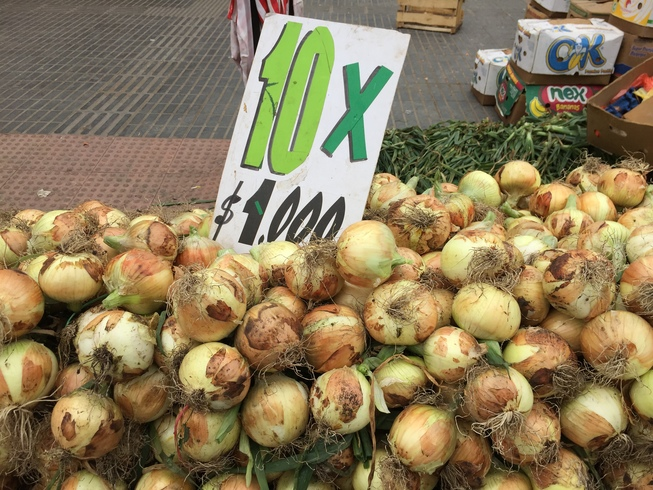precio: (194, 12, 424, 263)
